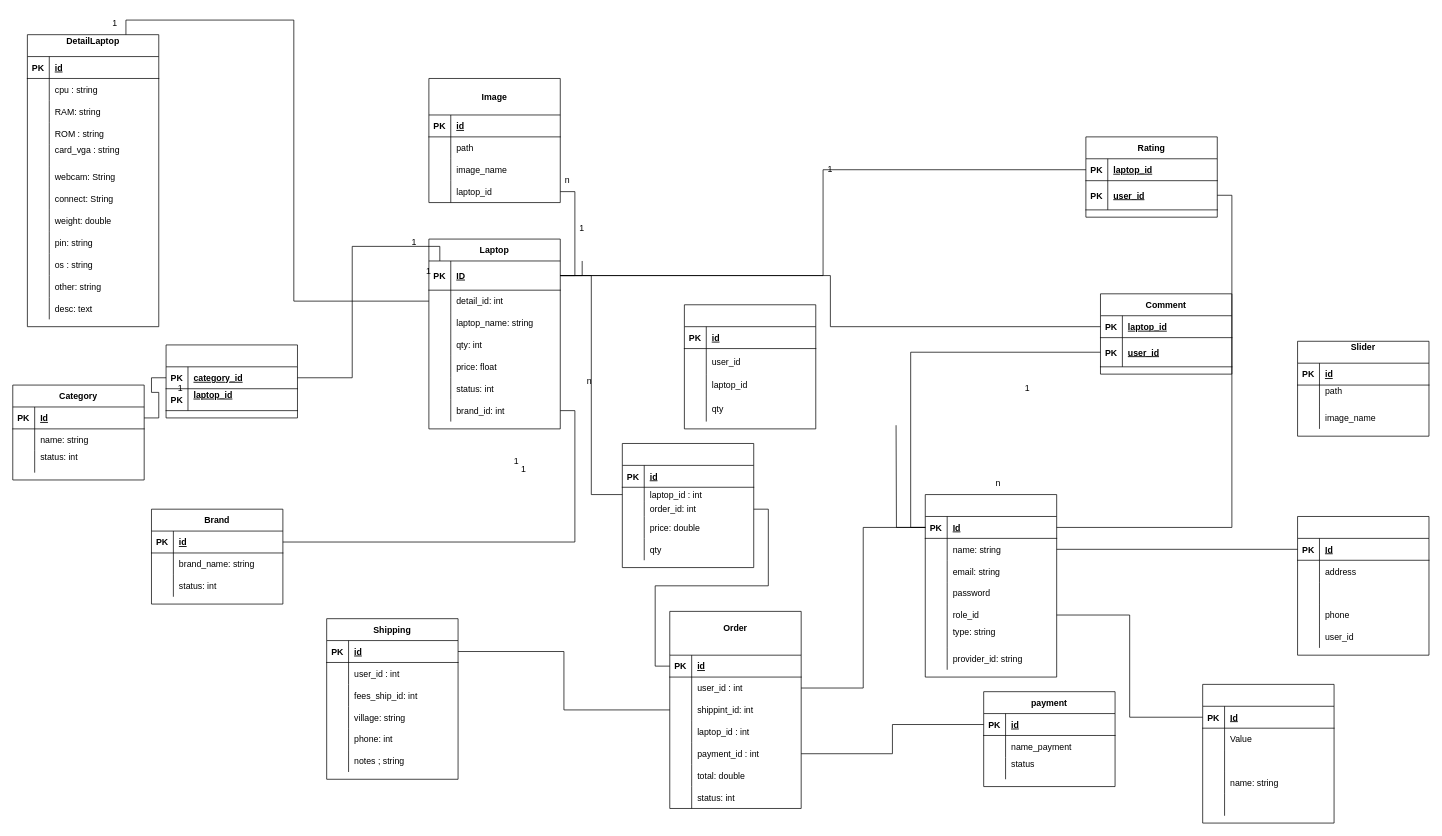
The diagram is 1442 pixels wide and 836 high, and some of its shapes have lost their labels. Here are the shapes that lost their labels. From the top down, the box of each, then its label:
(165, 344, 297, 418): categoryLaptop
(684, 304, 816, 429): Cart
(622, 443, 754, 568): Order_detail
(925, 494, 1057, 677): User
(1297, 516, 1429, 655): InforShipping
(1202, 684, 1334, 823): Role
